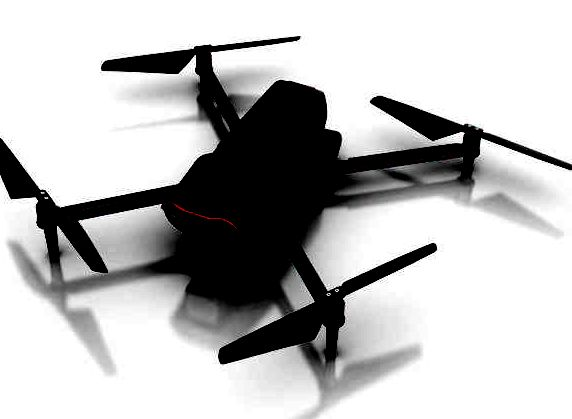Drone: (0, 32, 572, 364)
